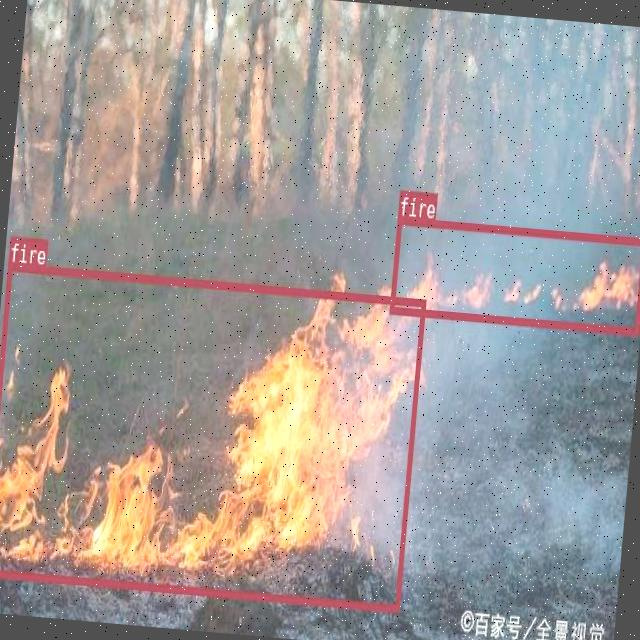fire: (0, 261, 425, 610), (388, 216, 640, 333)
